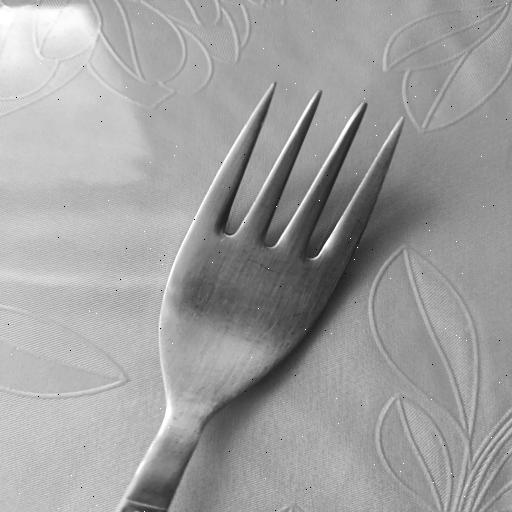fork: (108, 80, 404, 512)
